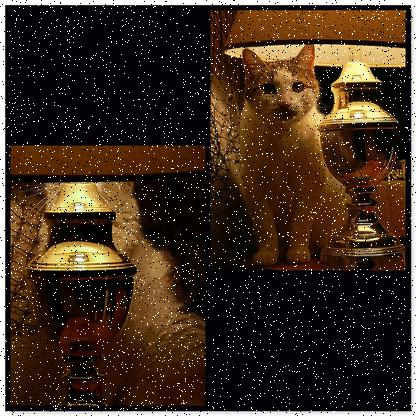cat: (224, 41, 350, 266)
